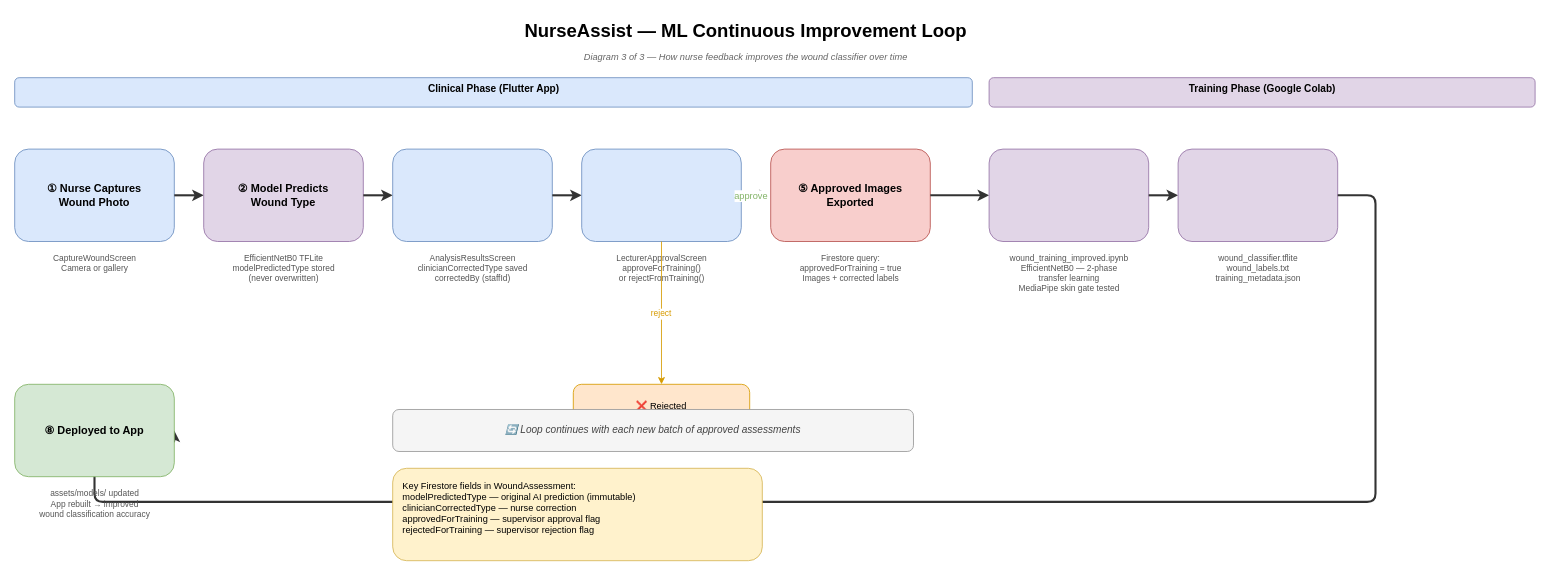
This 1550x575 diagram has some shape labels left out. Each missing label, with the box of its shape:
③ Nurse Reviews and Corrects: (392, 148, 552, 242)
④ Supervisor Reviews Queue: (581, 148, 741, 242)
⑥ Google Colab Retraining: (988, 148, 1149, 242)
⑦ New Model Exported: (1177, 148, 1338, 242)
